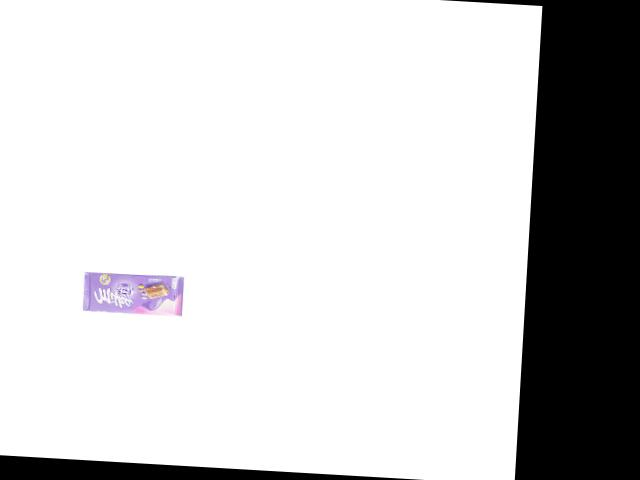chocolate: (81, 269, 184, 317)
